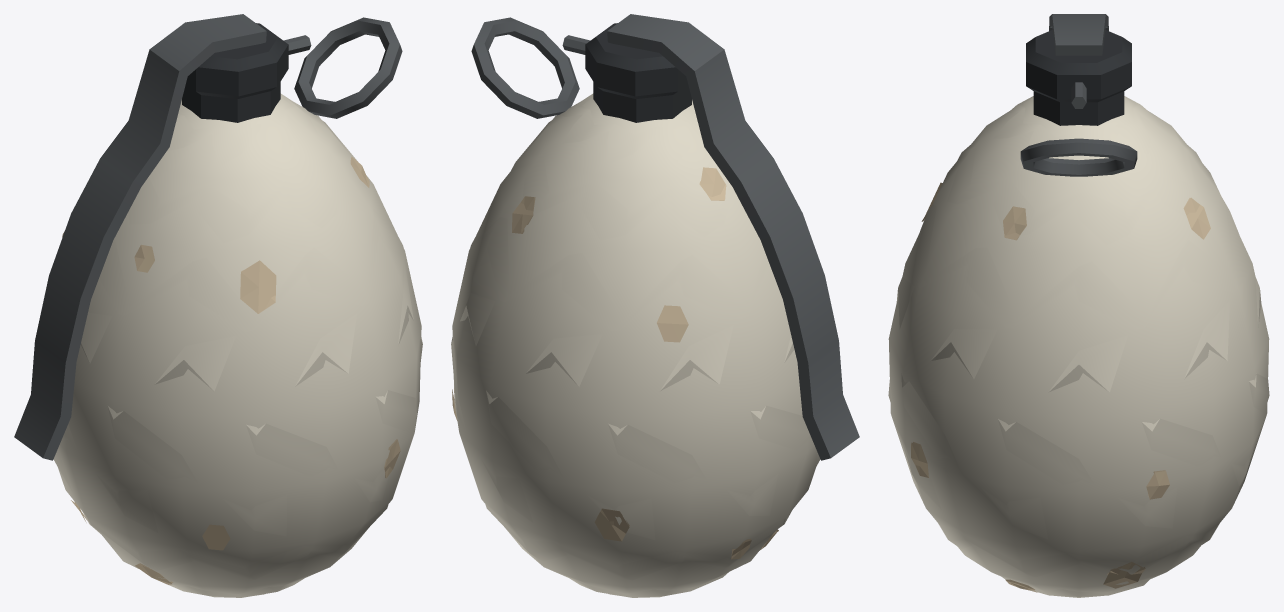
The model's file is egg.glb.
3 renders of one model, left to right at view 1: azimuth 30°, elevation 25°; view 2: azimuth 150°, elevation 25°; view 3: azimuth 270°, elevation 25°, orthographic.
Visible parts, largest first — view 1: Egg, Egg_Spoon, Egg_ShellTop, Egg_ShellBottom, Egg_Pin; view 2: Egg, Egg_Spoon, Egg_ShellTop, Egg_ShellBottom, Egg_Pin; view 3: Egg, Egg_ShellTop, Egg_ShellBottom, Egg_Pin, Egg_Spoon.
Boxes of the visible parts, bbox=[...] form: Egg: bbox=[58, 23, 421, 597]; Egg_Spoon: bbox=[14, 14, 266, 460]; Egg_ShellTop: bbox=[81, 93, 422, 435]; Egg_ShellBottom: bbox=[53, 305, 422, 597]; Egg_Pin: bbox=[283, 17, 402, 118]; Egg: bbox=[452, 23, 816, 597]; Egg_Spoon: bbox=[607, 14, 859, 460]; Egg_ShellTop: bbox=[451, 93, 792, 435]; Egg_ShellBottom: bbox=[451, 305, 820, 597]; Egg_Pin: bbox=[471, 17, 590, 118]; Egg: bbox=[888, 30, 1269, 597]; Egg_ShellTop: bbox=[898, 96, 1259, 431]; Egg_ShellBottom: bbox=[888, 290, 1269, 596]; Egg_Pin: bbox=[1020, 82, 1137, 176]; Egg_Spoon: bbox=[1049, 14, 1108, 55].
Size of the model in its own units: 0.0944 by 0.1362 by 0.0852.
